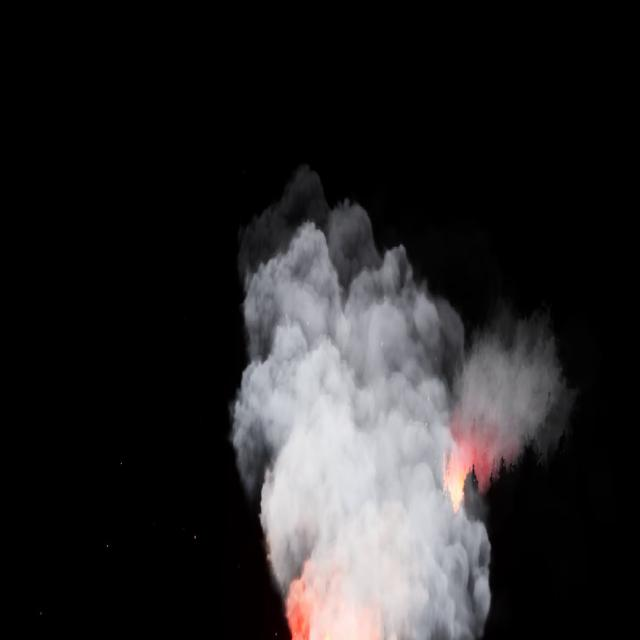fire: (280, 565, 383, 639), (445, 423, 501, 515)
smoke: (228, 176, 570, 639)
